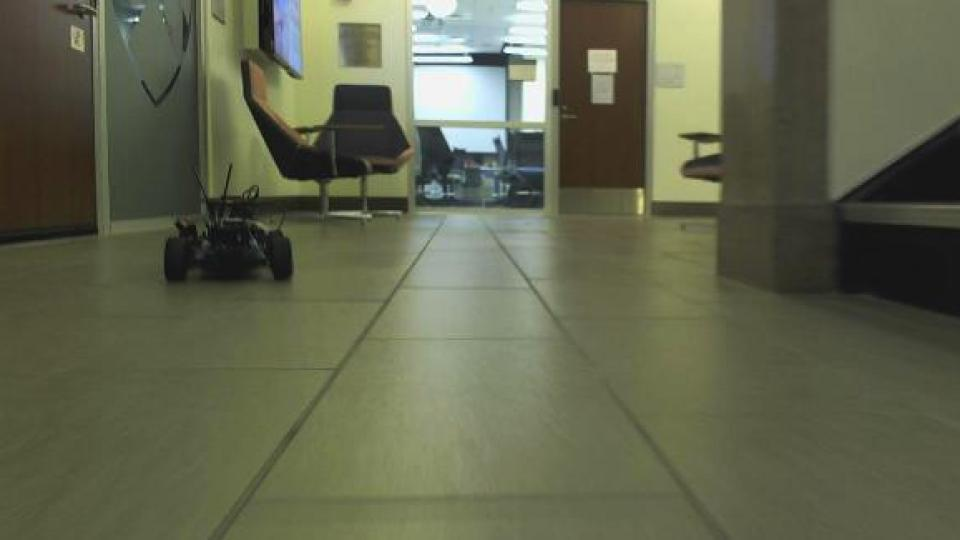car: (161, 160, 297, 287)
